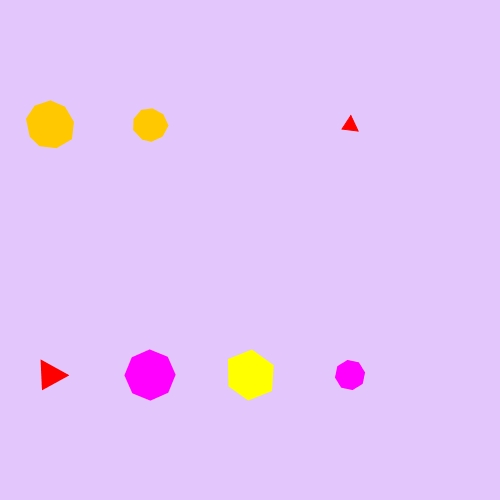hexagon: (220, 350, 281, 400)
nonagon: (22, 98, 78, 152), (129, 105, 172, 146)
octagon: (121, 346, 179, 404), (331, 356, 370, 395)
triangle: (32, 357, 68, 394), (338, 112, 363, 138)
